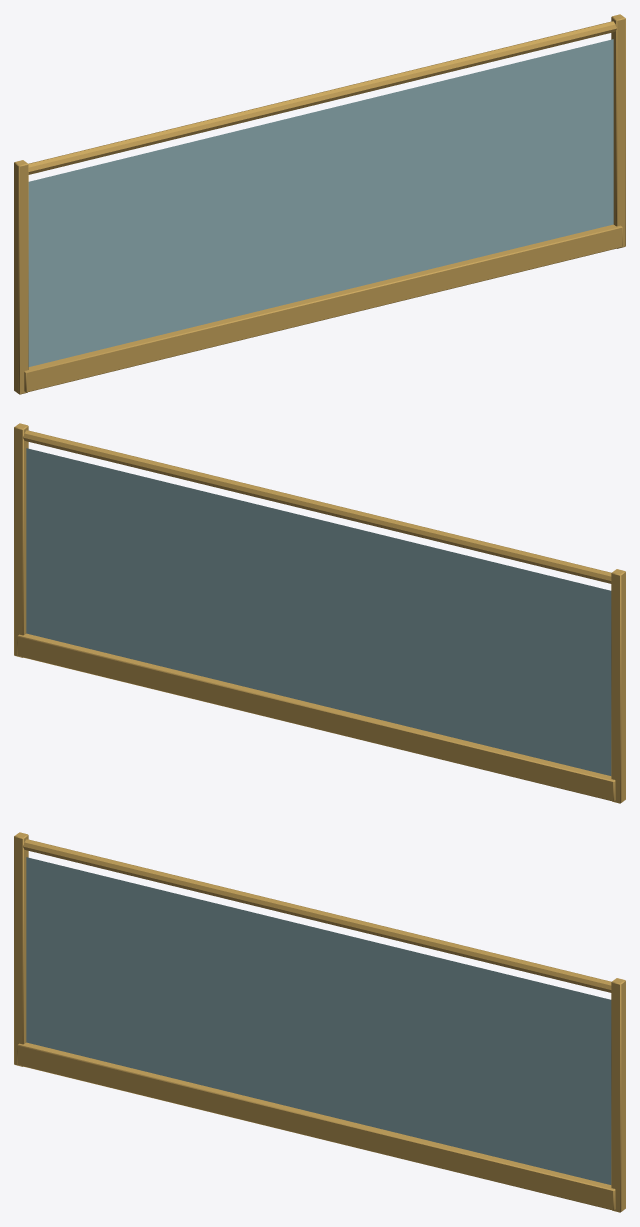
File: mall-atrium-rail.glb
3 views of the same model, one above another, from view 1: azimuth 30°, elevation 25°; view 2: azimuth 150°, elevation 25°; view 3: azimuth 330°, elevation 25° (orthographic).
Visible parts, largest first — view 1: glass__glass, rail__brass; view 2: glass__glass, rail__brass; view 3: glass__glass, rail__brass.
Boxes of the visible parts, x1,y1,x2,y2 form: glass__glass: [28, 39, 613, 366]; rail__brass: [14, 14, 625, 394]; glass__glass: [26, 448, 611, 775]; rail__brass: [14, 423, 625, 803]; glass__glass: [26, 857, 611, 1184]; rail__brass: [14, 832, 625, 1212].
Size of the model in its own units: 3.05 by 1.1 by 0.08.
